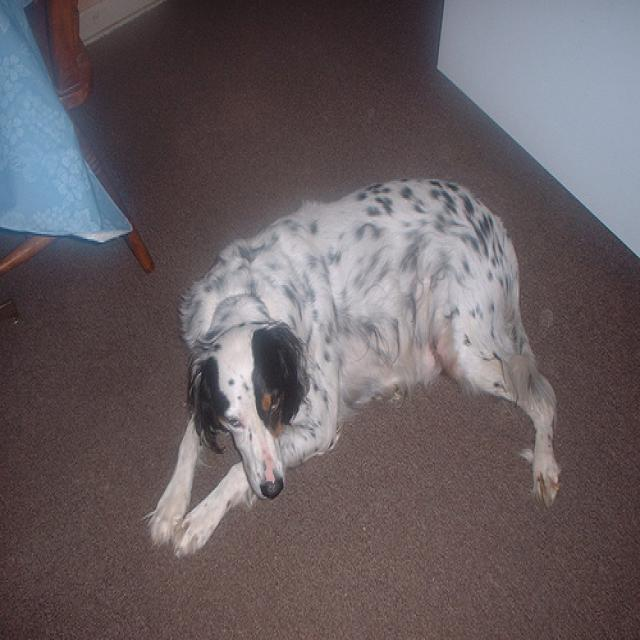dog-english_setter: (143, 171, 564, 558)
